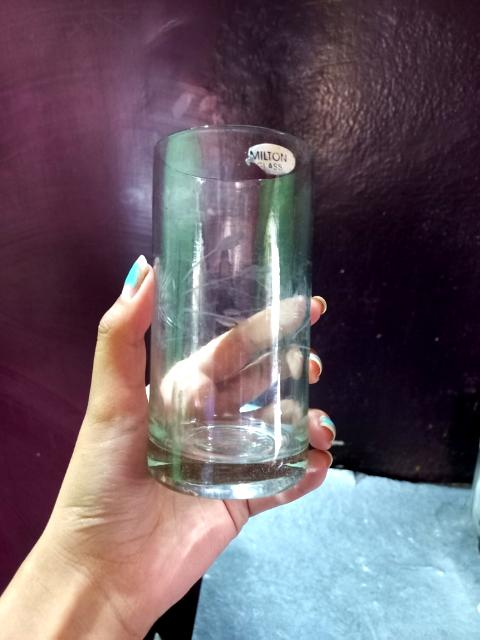Cup: (149, 127, 312, 498)
